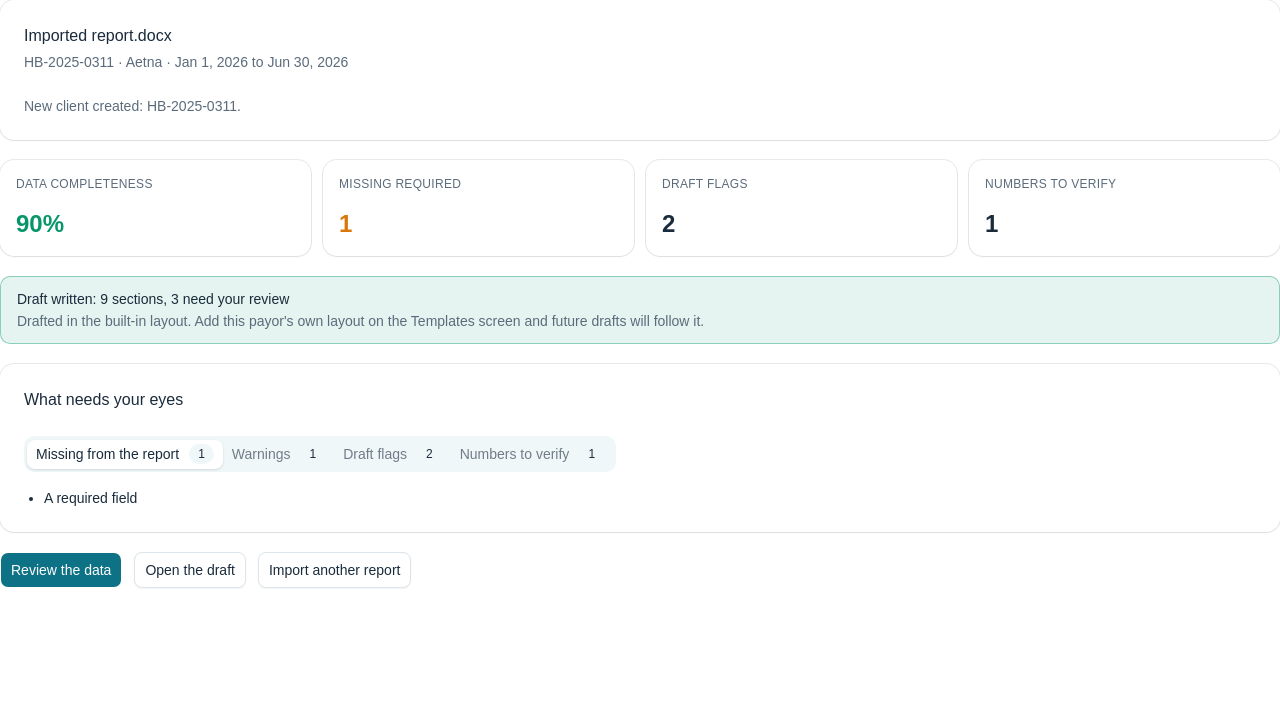
ImportResultView › lets the BCBA switch lists
Check: the list item "A required field" is shown, box [44,490,137,506]
Click the tab "Draft flags 2" at (392, 454), box [334,440,451,468]
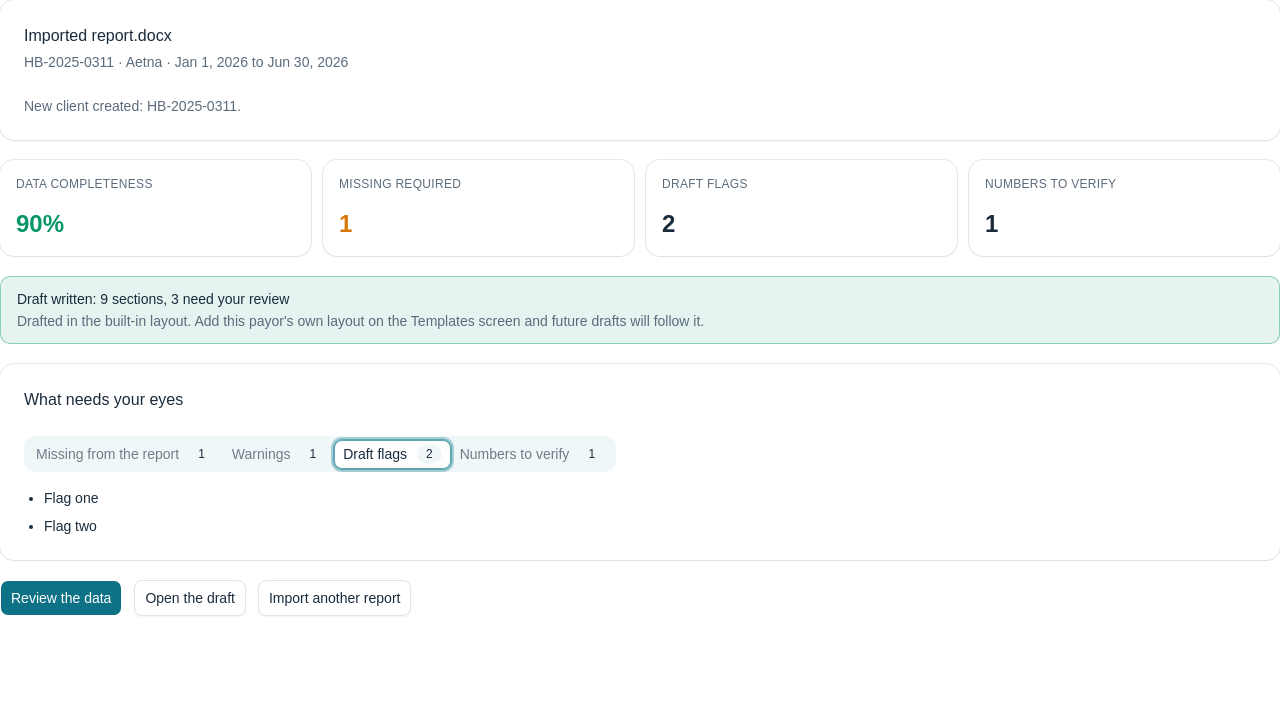
Check: the list item "Flag one" is shown, box [44,490,98,506]
